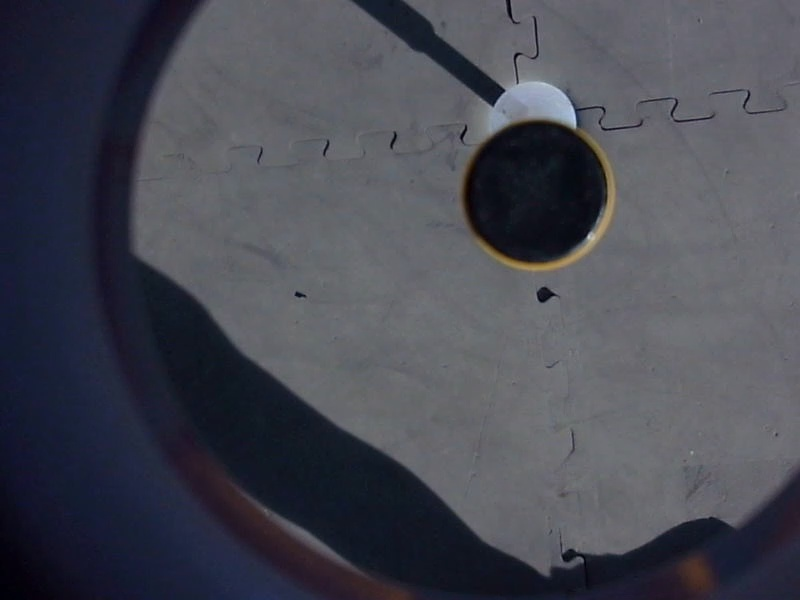tip: (452, 112, 625, 276)
